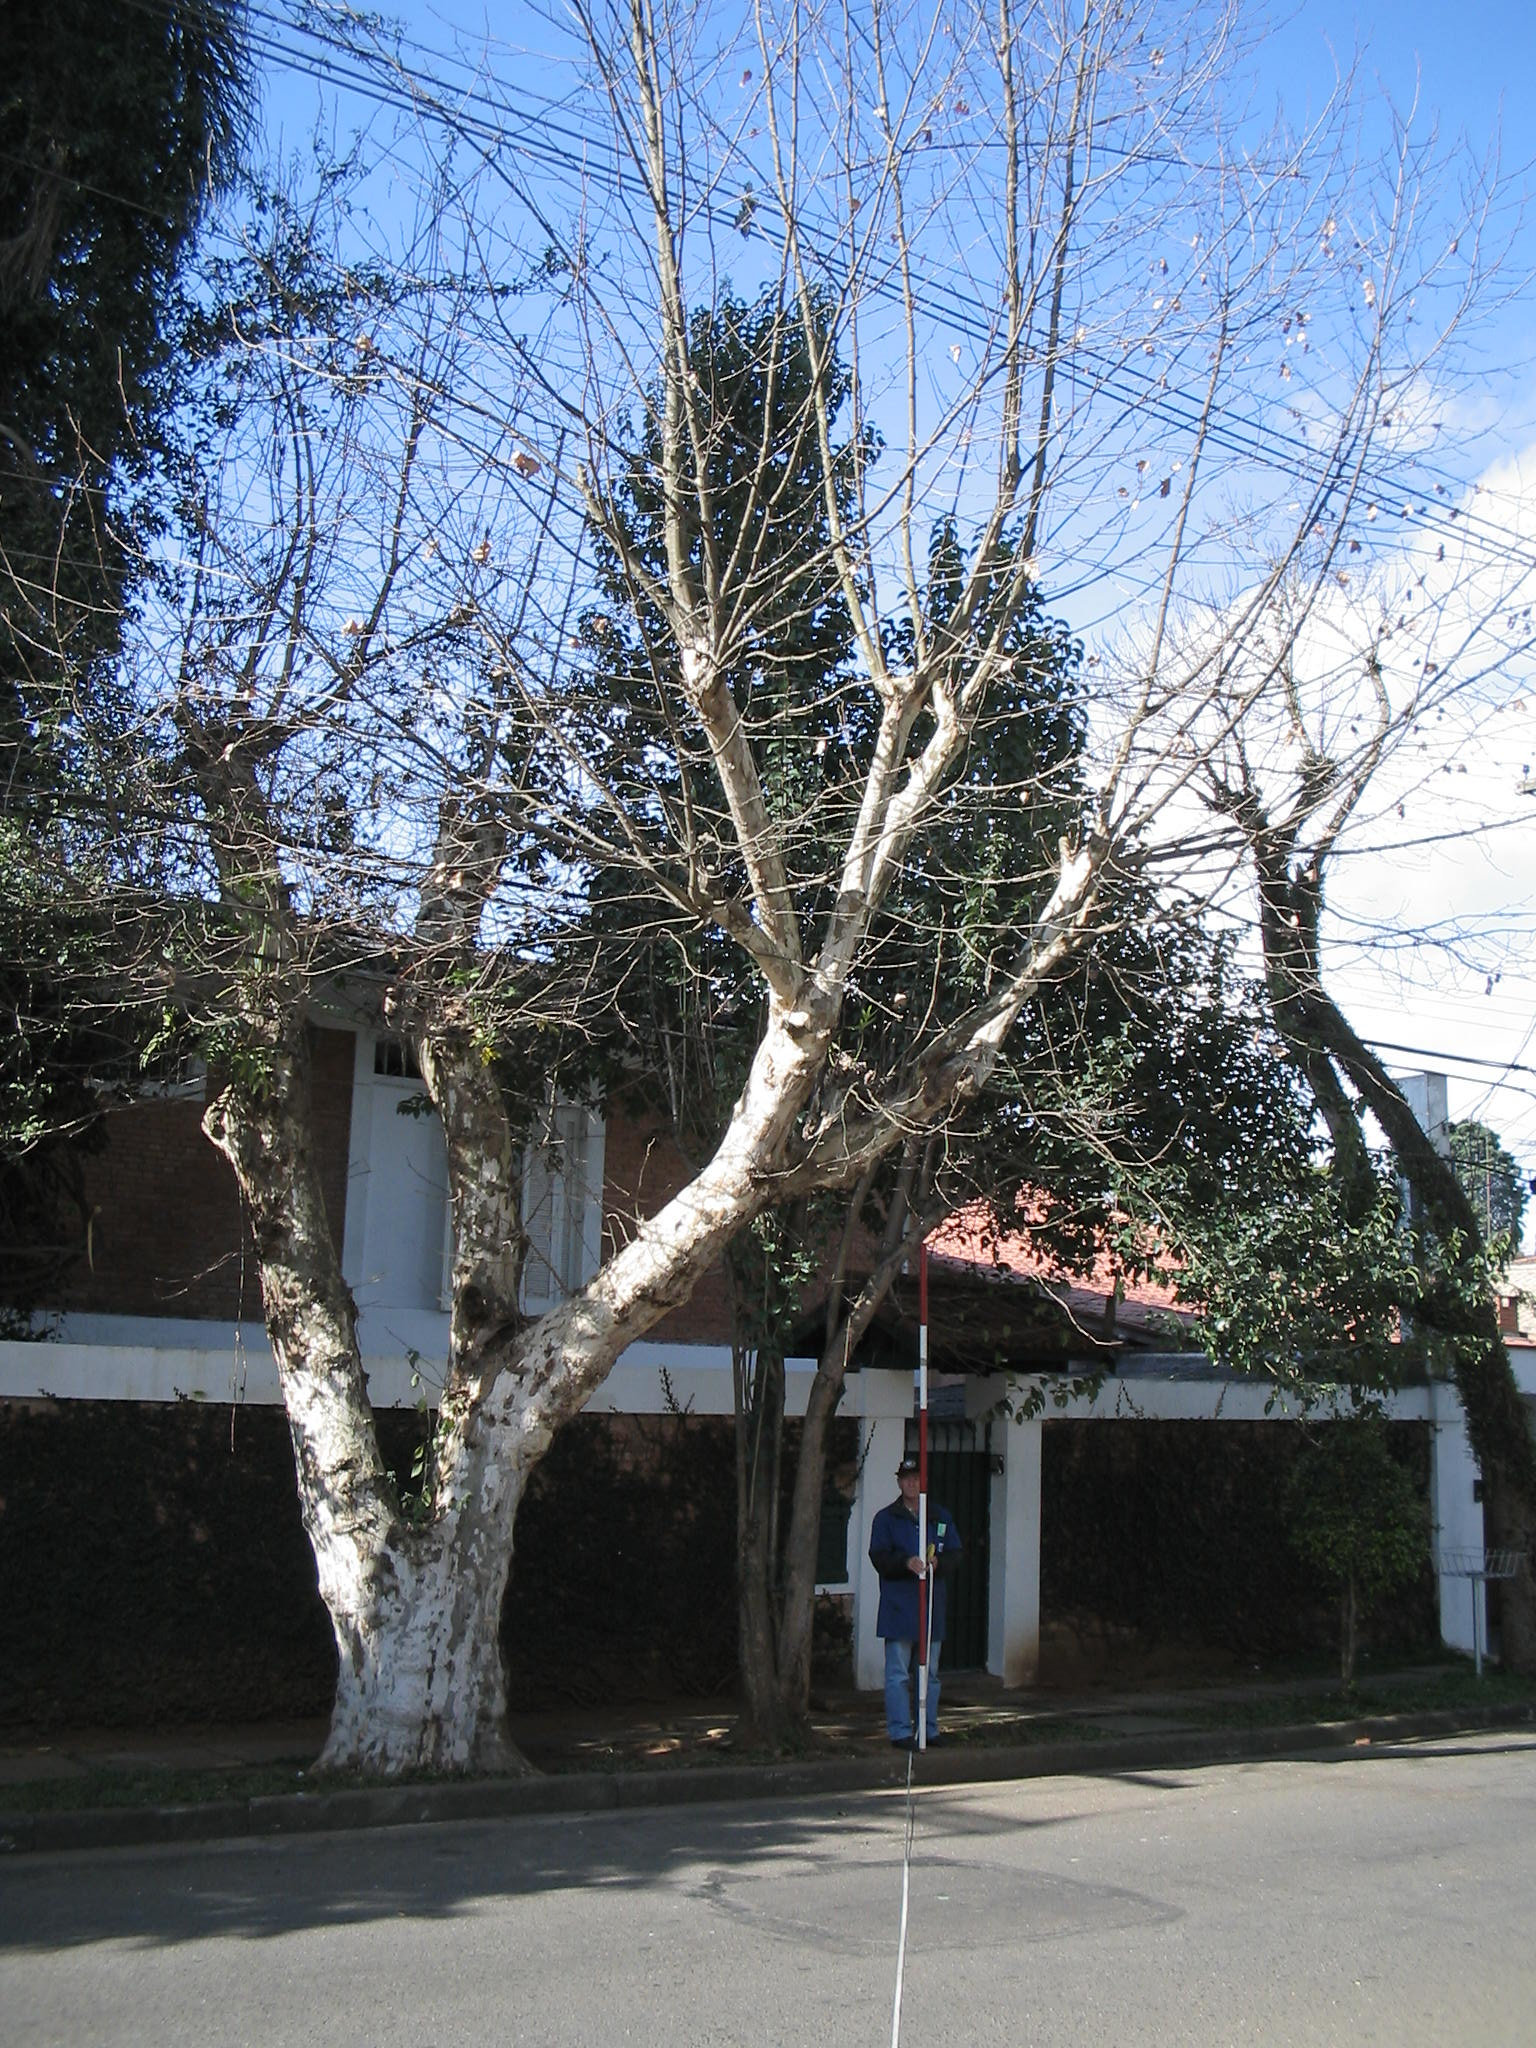stem: (271, 1493, 578, 1780), (1425, 1332, 1534, 1677)
stick: (899, 1240, 941, 1751)
tree: (13, 2, 1533, 1782), (1113, 518, 1536, 1675)
